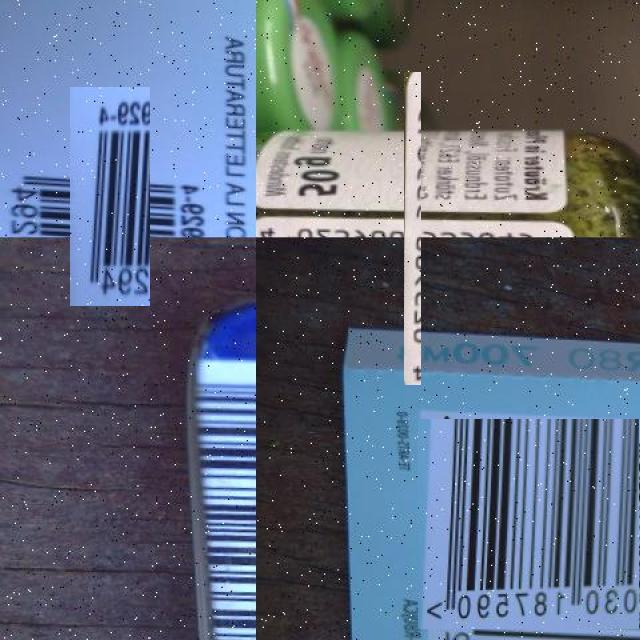Barcode: (423, 413, 640, 635), (330, 145, 495, 311), (35, 121, 184, 272), (200, 356, 256, 640)
